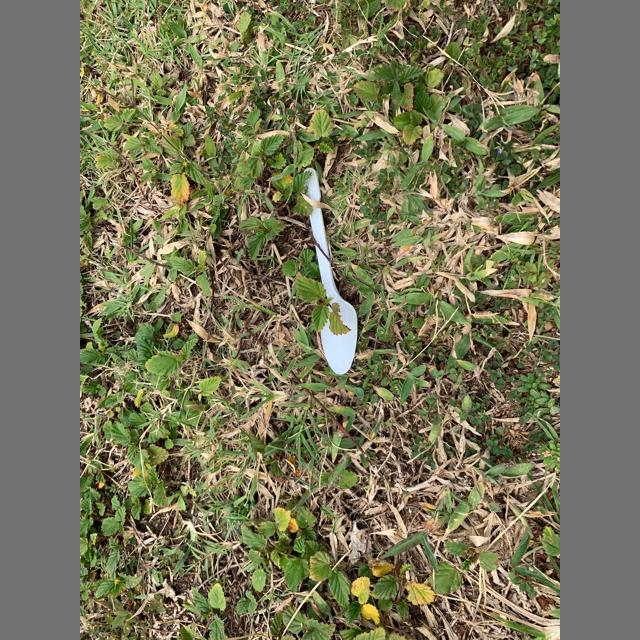litter: (303, 167, 357, 373)
